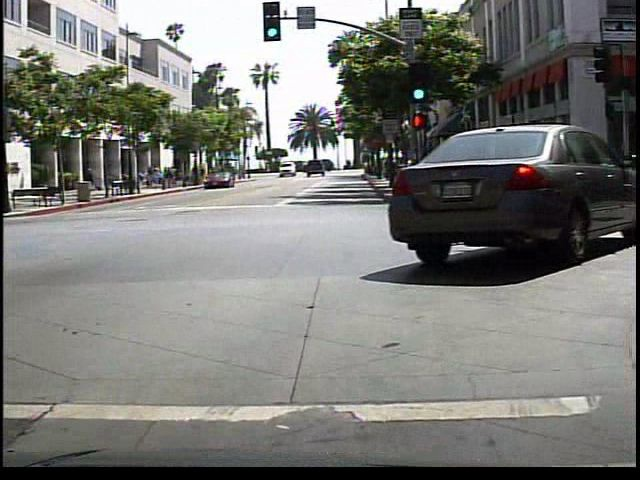person: (79, 160, 97, 192)
